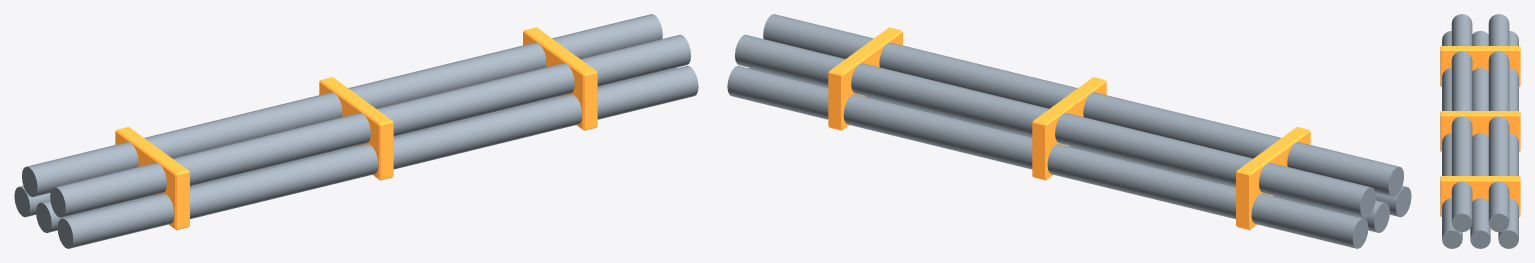
Rendered from steel-cargo-v4-medium.glb.
3 views of the same model, side by side, from view 1: azimuth 30°, elevation 25°; view 2: azimuth 150°, elevation 25°; view 3: azimuth 270°, elevation 25° (orthographic). The views are drawn at different scales.
Visible parts, largest first — view 1: steel-cargo-v4-high.glb-v5_rebar_bundle, steel-cargo-v4-high.glb-v5_crane_orange; view 2: steel-cargo-v4-high.glb-v5_rebar_bundle, steel-cargo-v4-high.glb-v5_crane_orange; view 3: steel-cargo-v4-high.glb-v5_rebar_bundle, steel-cargo-v4-high.glb-v5_crane_orange.
Part boxes in pixels (bbox=[...]): steel-cargo-v4-high.glb-v5_rebar_bundle: bbox=[14, 14, 698, 248]; steel-cargo-v4-high.glb-v5_crane_orange: bbox=[115, 27, 597, 230]; steel-cargo-v4-high.glb-v5_rebar_bundle: bbox=[727, 14, 1411, 248]; steel-cargo-v4-high.glb-v5_crane_orange: bbox=[828, 27, 1310, 230]; steel-cargo-v4-high.glb-v5_rebar_bundle: bbox=[1442, 14, 1518, 248]; steel-cargo-v4-high.glb-v5_crane_orange: bbox=[1440, 46, 1520, 216].
Bounding box in the file's own units: 9.2 × 0.8 × 1.56.
